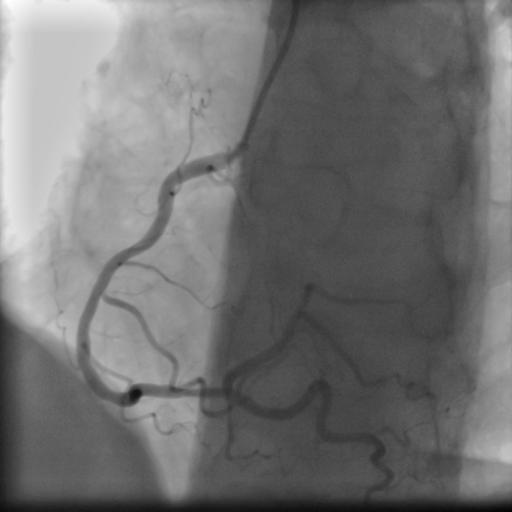Stenosis: (165, 379, 221, 405)
